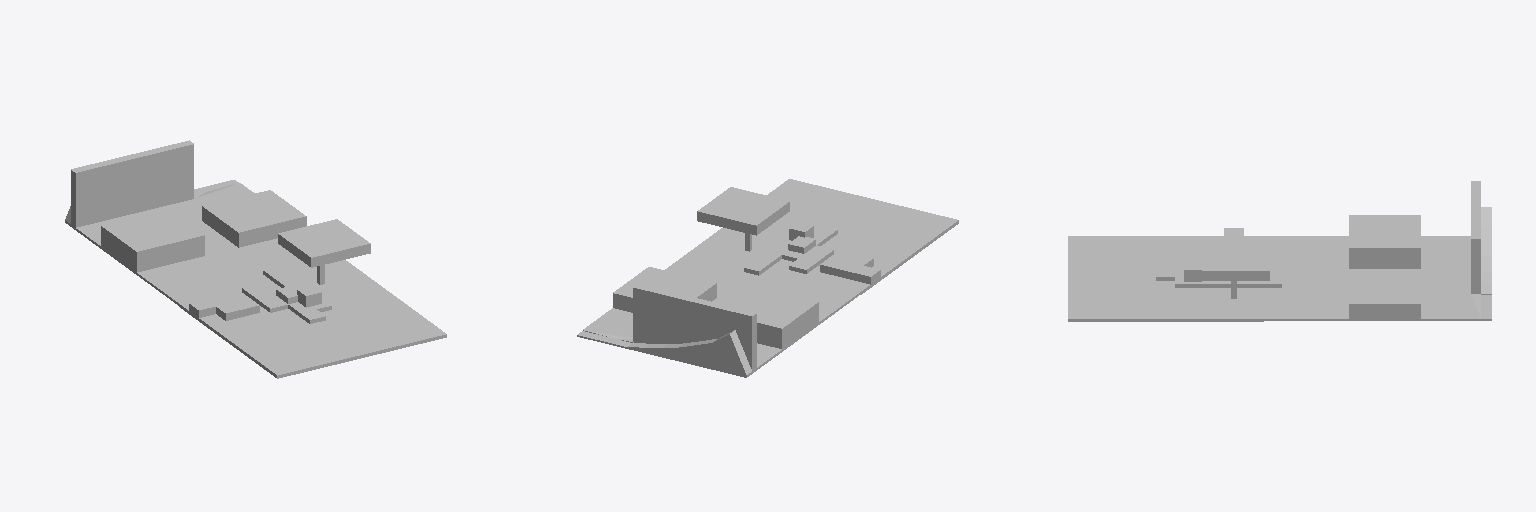
File: test_topo3.obj
3 views of the same model, side by side, from view 1: azimuth 30°, elevation 25°; view 2: azimuth 150°, elevation 25°; view 3: azimuth 270°, elevation 25° (orthographic).
Visible parts, largest first — view 1: Bataille, Terrain; view 2: Bataille, Terrain; view 3: Bataille, Terrain.
Part boxes in pixels (left/top/right/bottom): Bataille: left=65, top=140, right=446, bottom=378; Terrain: left=242, top=267, right=331, bottom=323; Bataille: left=577, top=179, right=958, bottom=377; Terrain: left=744, top=222, right=837, bottom=275; Bataille: left=1068, top=181, right=1491, bottom=321; Terrain: left=1156, top=260, right=1281, bottom=287.
Size of the model in its own units: 42.15 by 16.01 by 91.37.